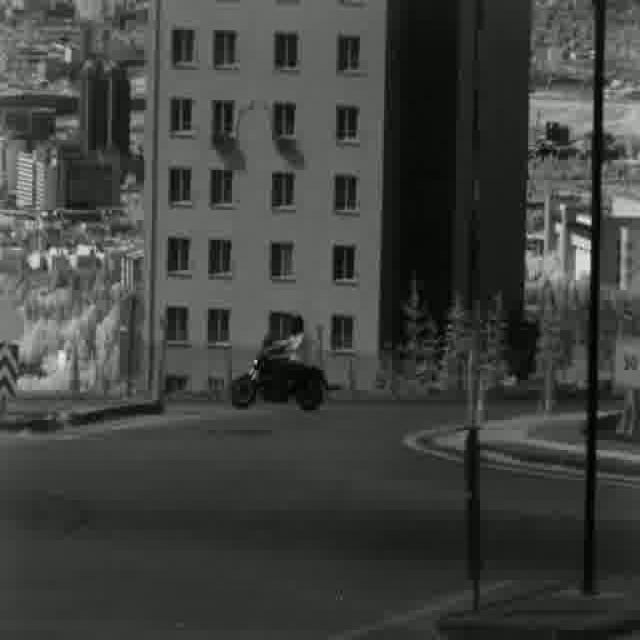Motorcycle: (225, 314, 329, 411)
